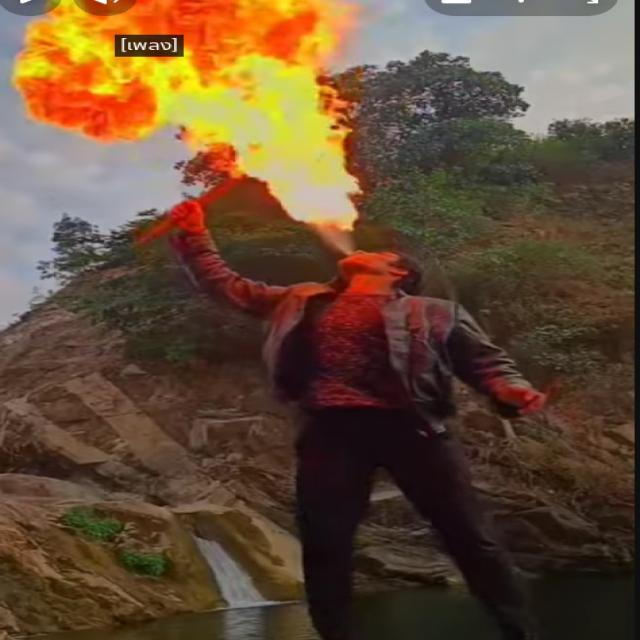fire: (13, 0, 357, 229)
